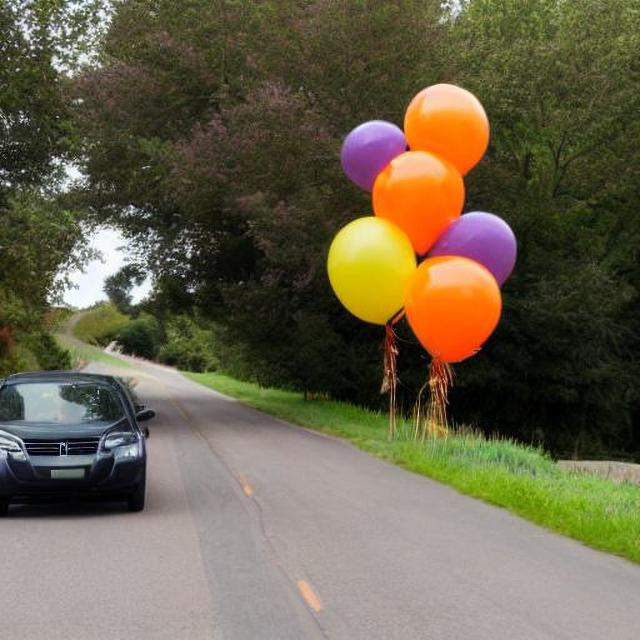balloon: (321, 84, 520, 429)
